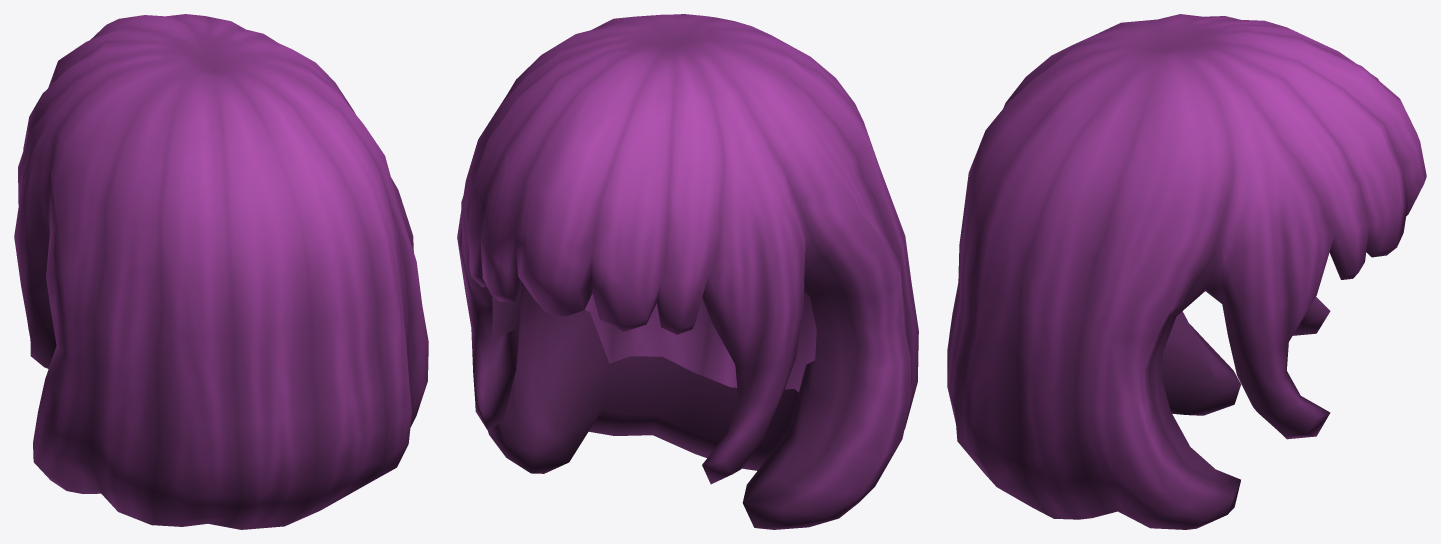
Rendered from Hair_Female_001_textured_purple.glb.
3 views of the same model, side by side, from view 1: azimuth 30°, elevation 25°; view 2: azimuth 150°, elevation 25°; view 3: azimuth 270°, elevation 25° (orthographic). The views are drawn at different scales.
Visible parts, largest first — view 1: Hair_Female_001; view 2: Hair_Female_001; view 3: Hair_Female_001.
Boxes of the visible parts, bbox=[...] form: Hair_Female_001: bbox=[14, 14, 428, 529]; Hair_Female_001: bbox=[457, 14, 918, 529]; Hair_Female_001: bbox=[947, 14, 1426, 529].
Bounding box in the file's own units: 0.2205 × 0.2446 × 0.236.
Materials: 1 (1 with a texture image).
